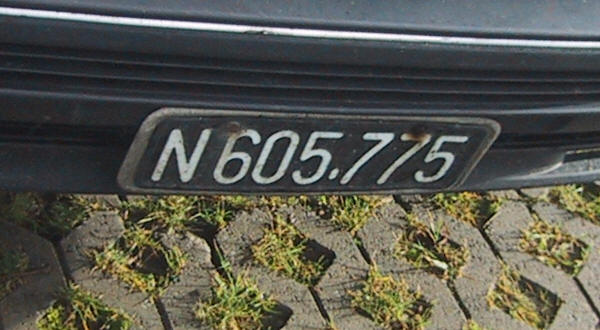license_plate: (126, 117, 499, 192)
